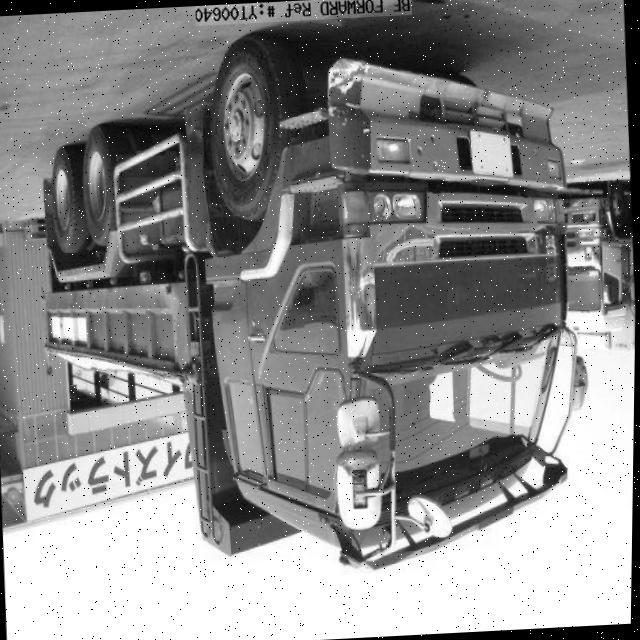truck: (155, 29, 617, 602)
